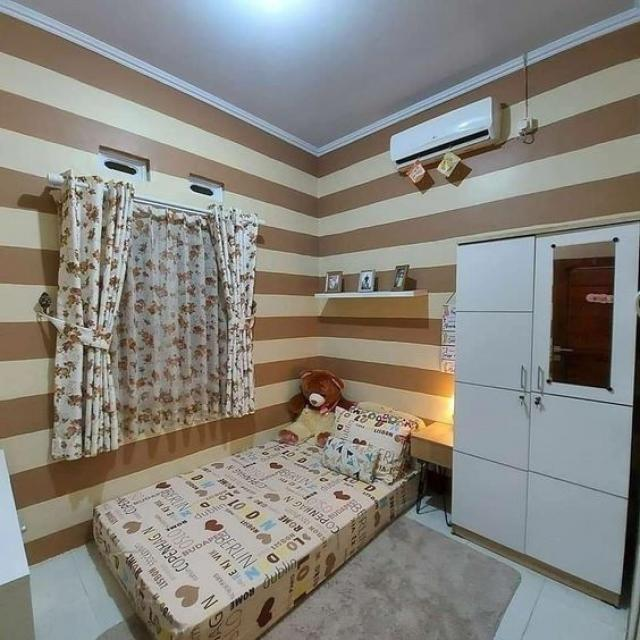AC: (389, 96, 500, 173)
Lemari: (448, 217, 639, 610)
